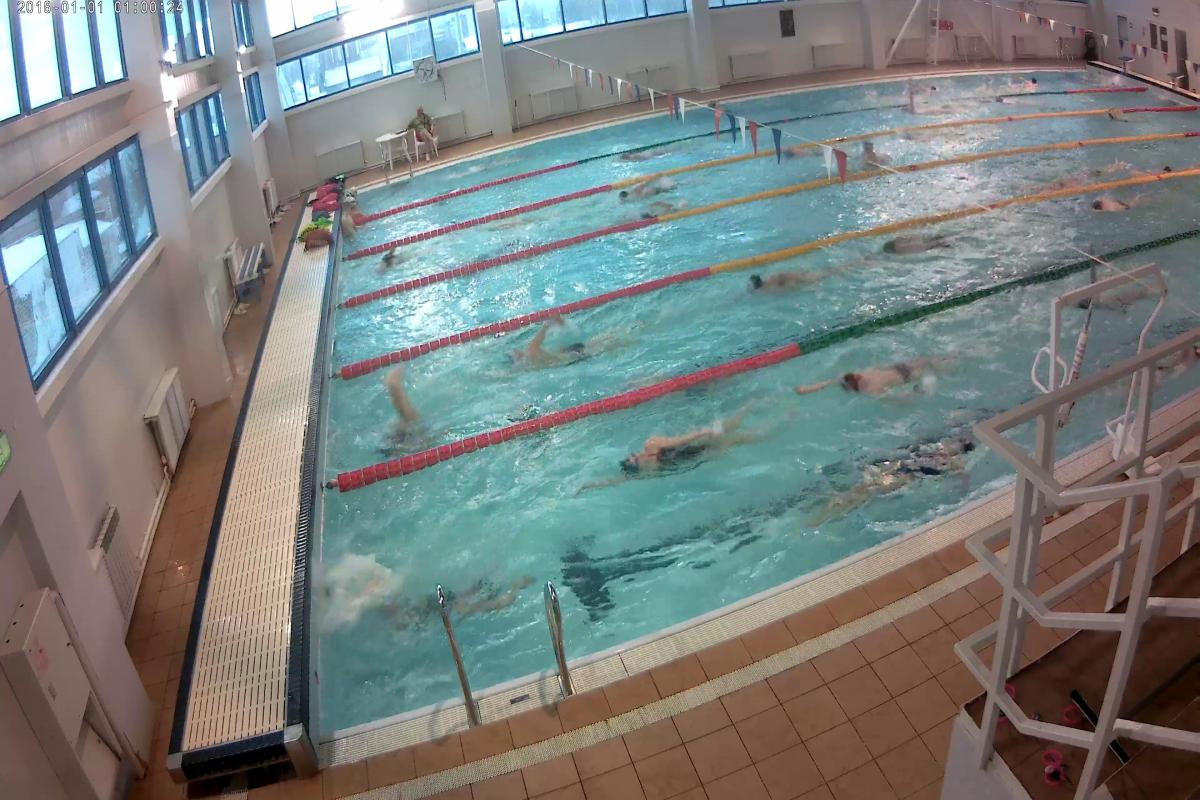swimmer: (816, 437, 972, 519), (594, 412, 751, 490), (804, 349, 944, 407), (379, 578, 508, 637), (494, 326, 622, 376), (363, 363, 436, 448), (738, 262, 851, 299), (1060, 278, 1136, 326), (1066, 185, 1142, 222), (878, 229, 958, 258), (367, 246, 416, 284), (615, 180, 681, 206), (855, 140, 894, 172)
